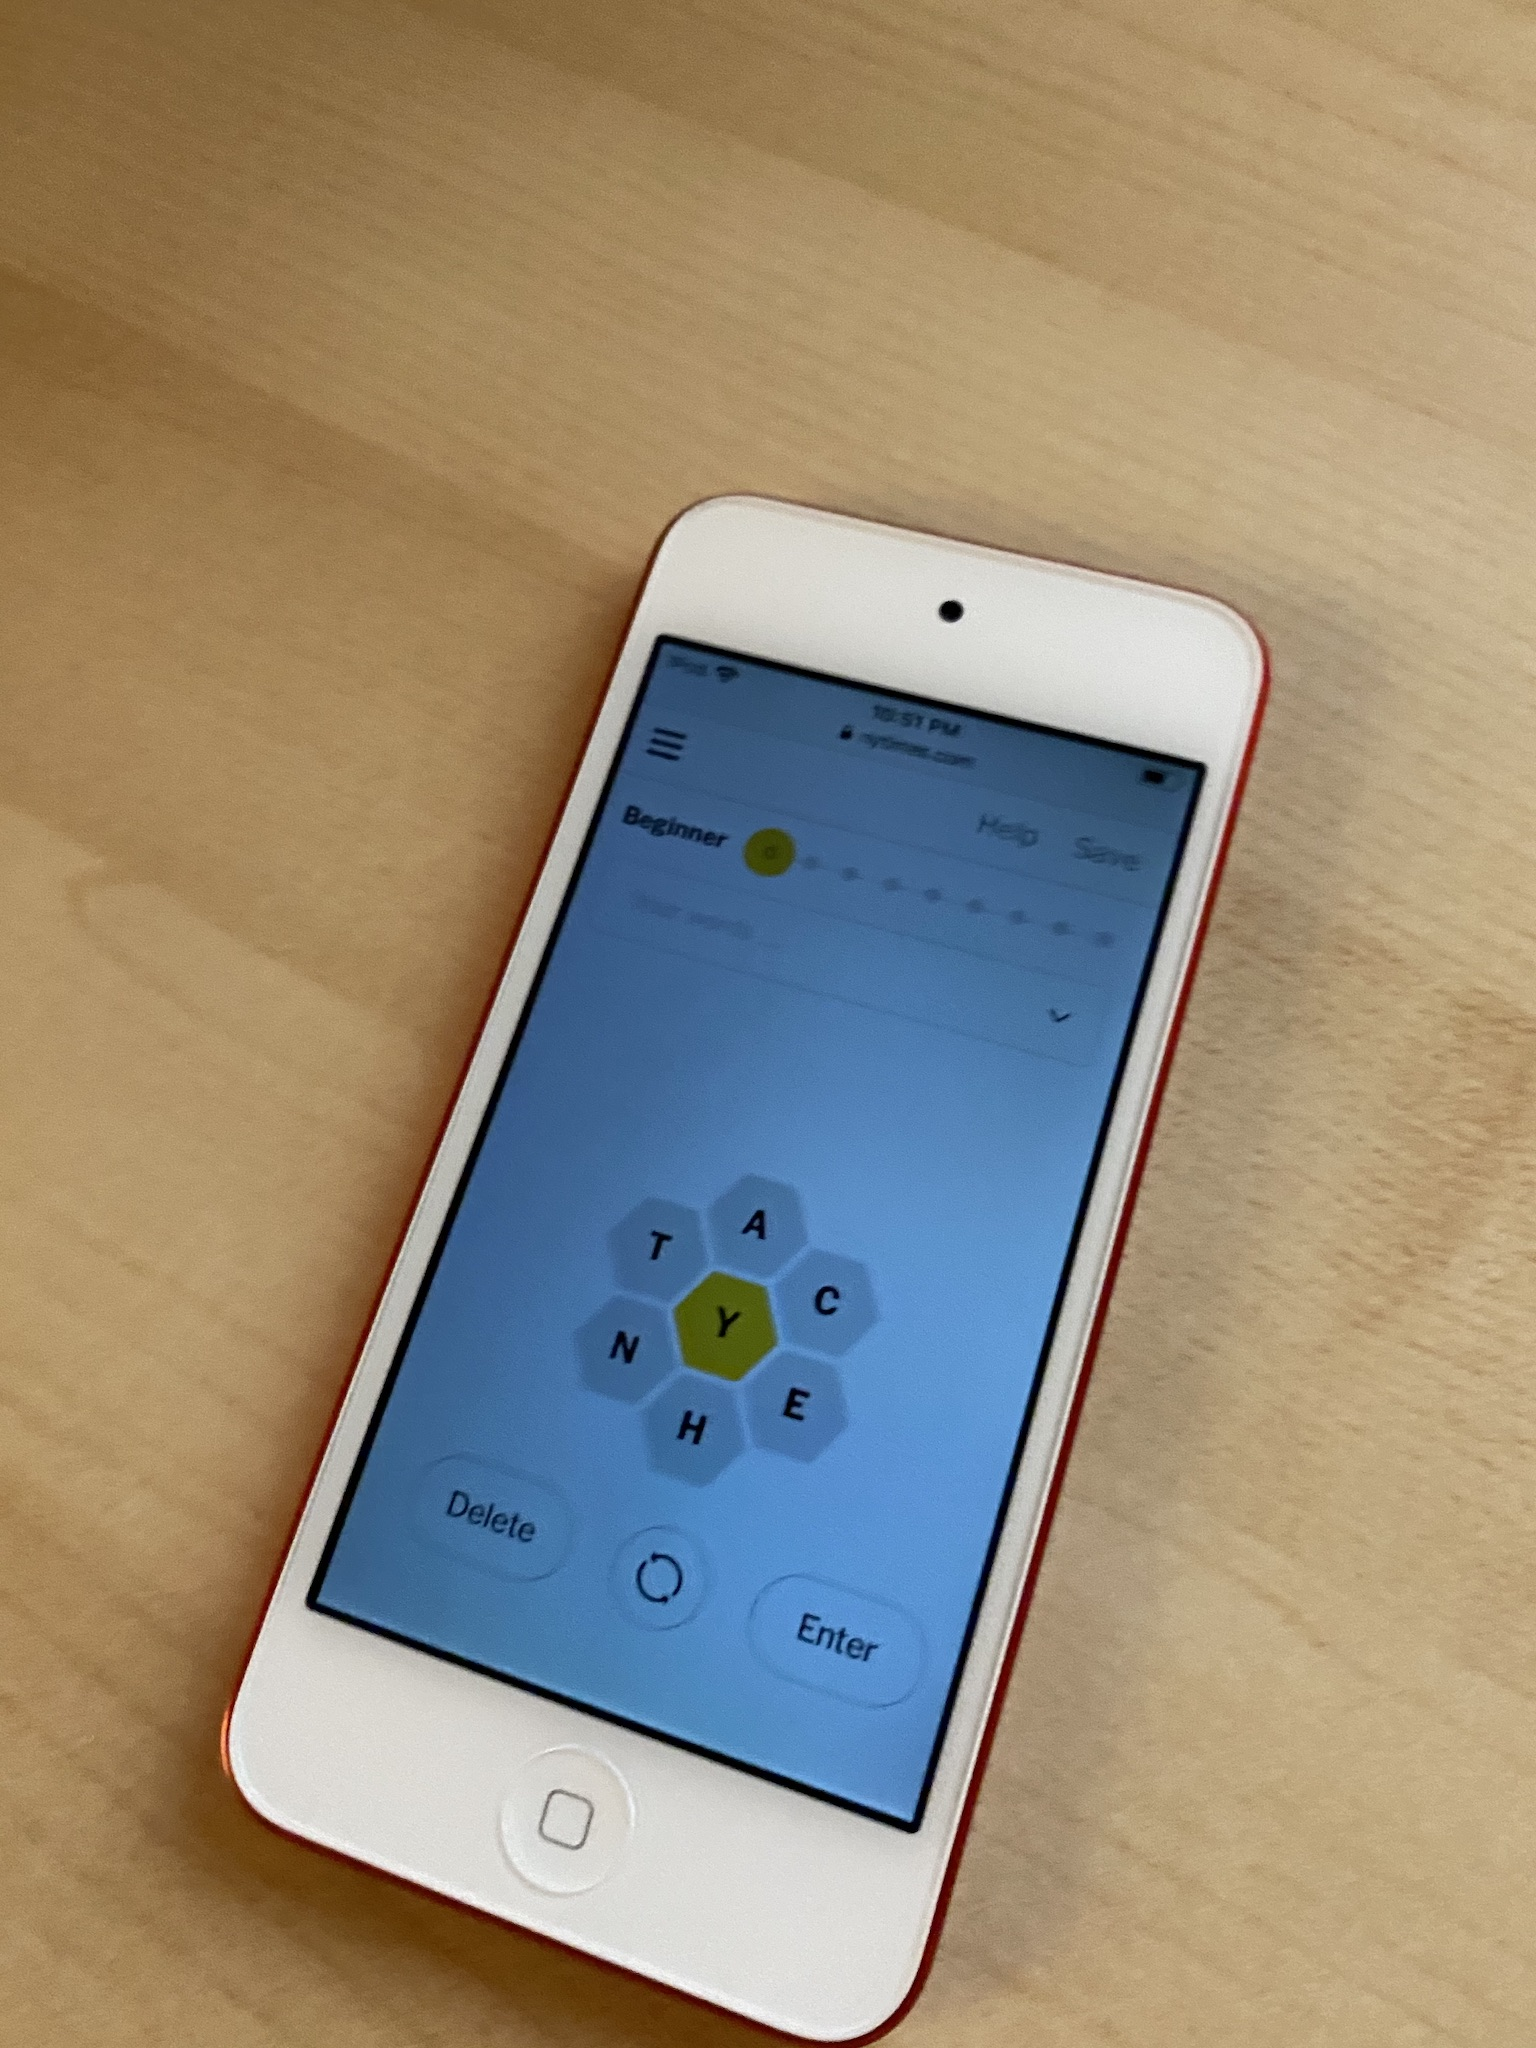Board: (511, 1109, 950, 1559)
